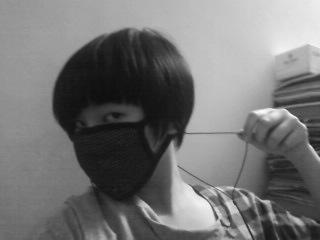OK: (73, 106, 160, 193)
